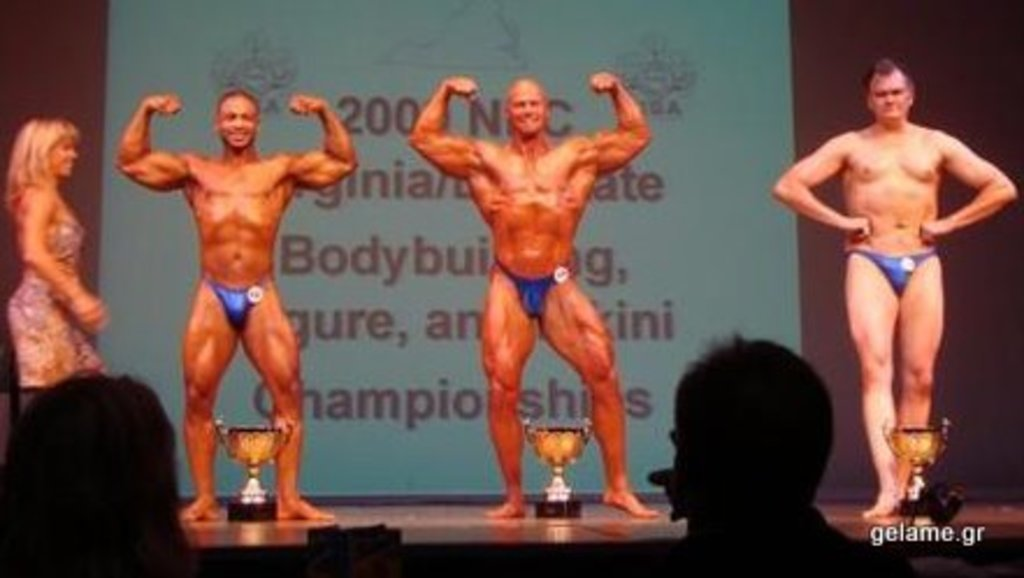Person: (0, 115, 102, 416)
